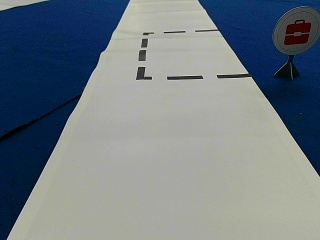company: (273, 6, 319, 54)
